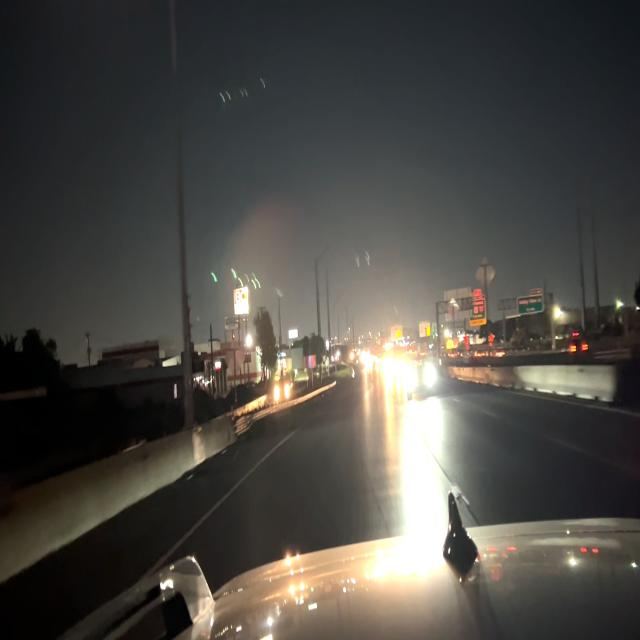back-of-sign: (443, 284, 474, 324), (475, 256, 496, 292)
